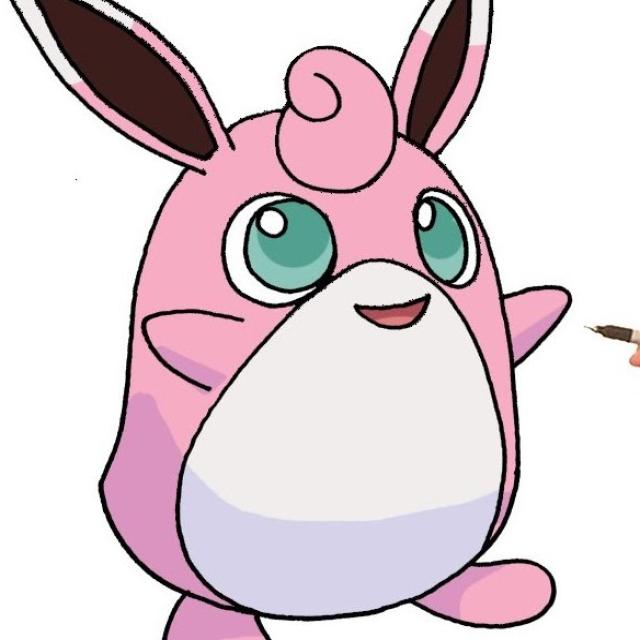Wigglytuff: (109, 40, 527, 618)
